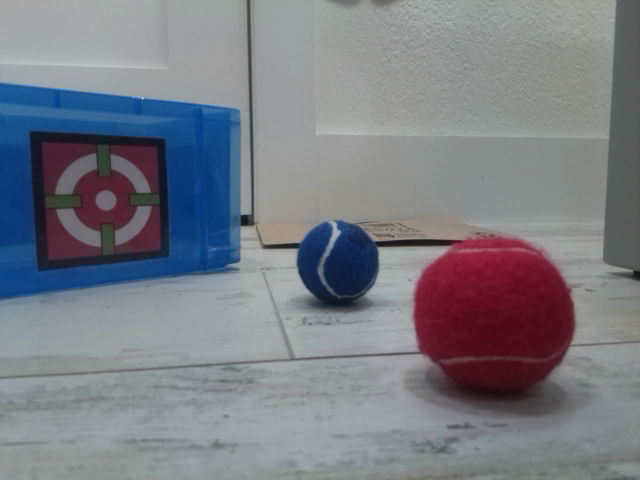blue-ball: (296, 219, 380, 306)
drop-bin: (29, 130, 170, 272)
red-ball: (412, 234, 576, 396)
